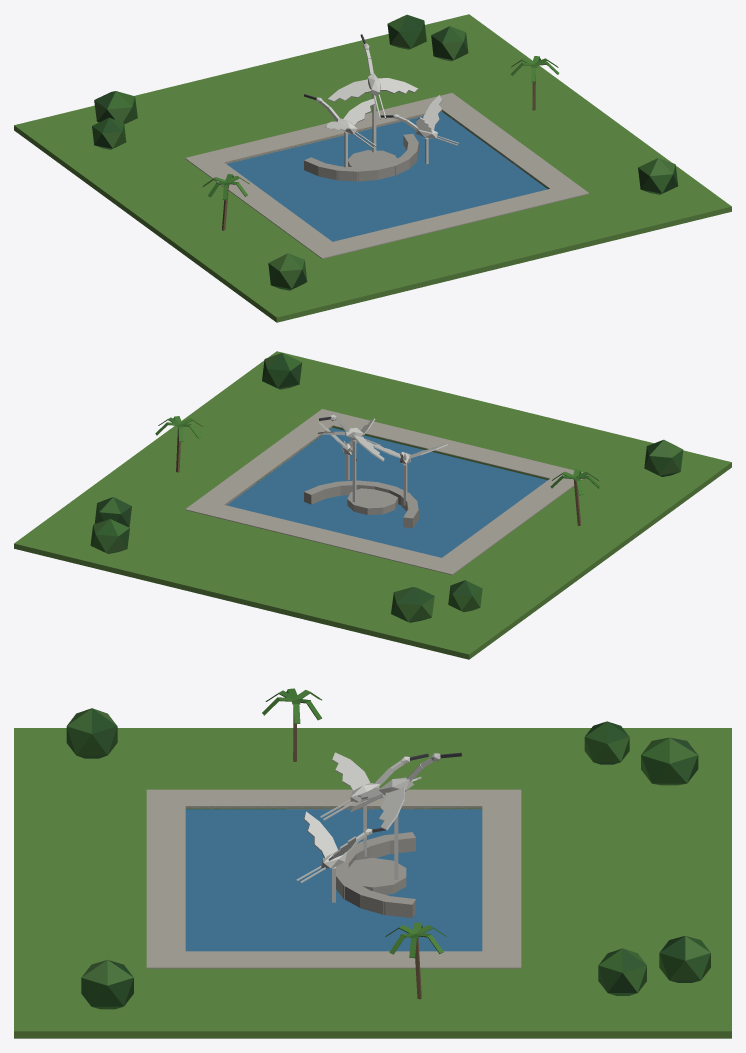
The model's file is monumento_tuiuius.glb.
3 views of the same model, one above another, from view 1: azimuth 30°, elevation 25°; view 2: azimuth 150°, elevation 25°; view 3: azimuth 270°, elevation 25° (orthographic). The views are drawn at different scales.
Parts seen in each view (by area): view 1: monumento_tuiuius; view 2: monumento_tuiuius; view 3: monumento_tuiuius.
Boxes of the visible parts, bbox=[...] form: monumento_tuiuius: bbox=[14, 14, 731, 322]; monumento_tuiuius: bbox=[14, 351, 731, 659]; monumento_tuiuius: bbox=[14, 688, 731, 1038].
Bounding box in the file's own units: 92 × 21.28 × 92.
